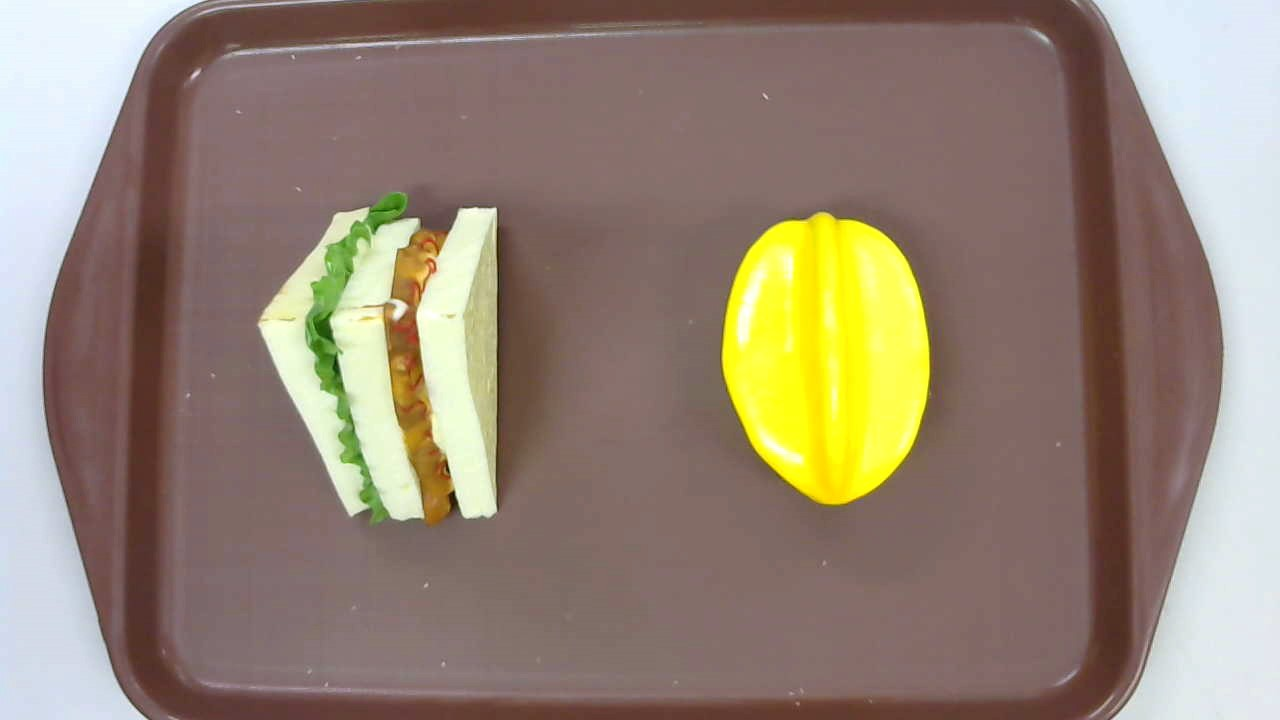sandwich: (257, 191, 498, 528)
star fruit: (721, 209, 928, 506)
